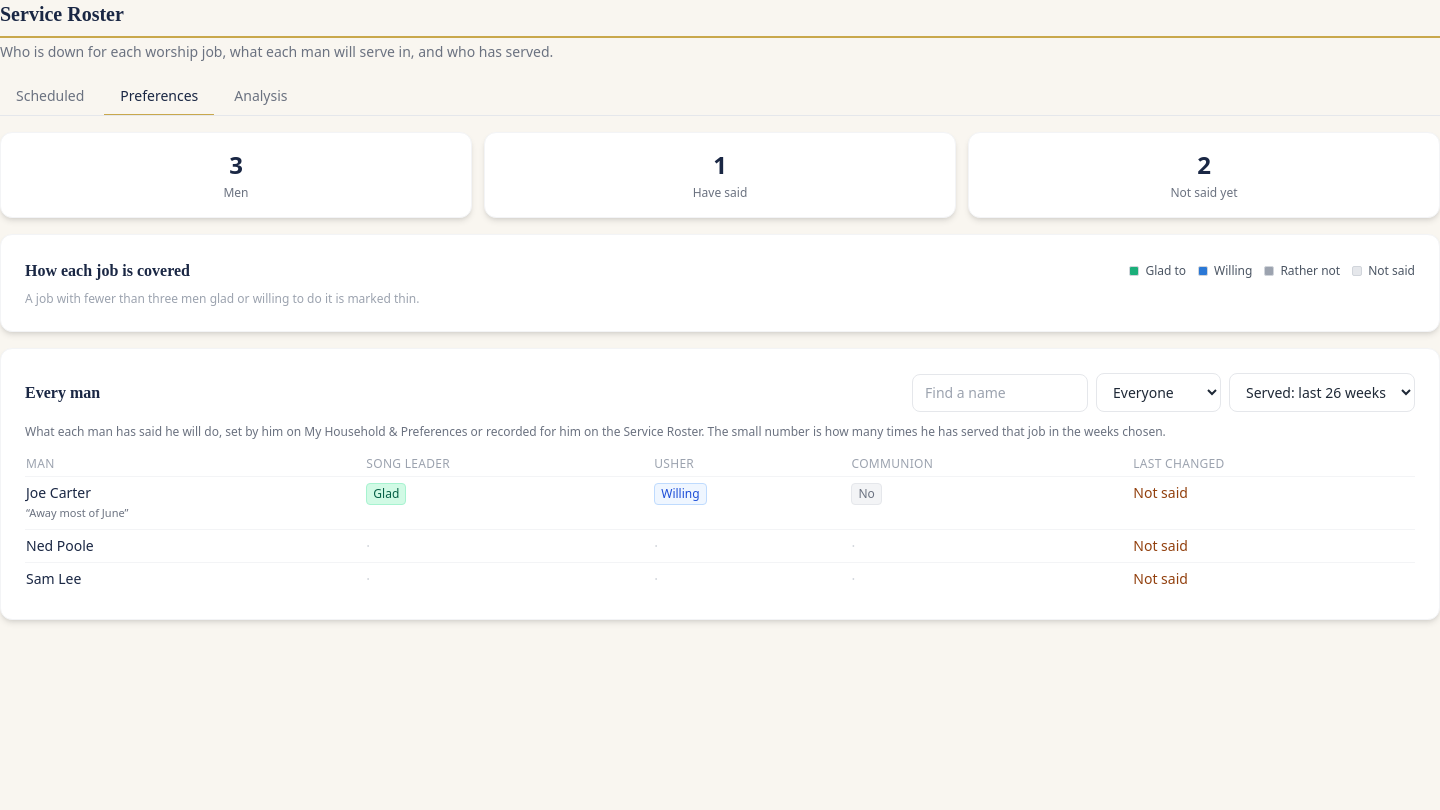
Test case: ServiceRosterView — opening a man from Preferences › warns when his directory entry does not say he is a man
Click the button "Sam Lee": (54, 579) [26,569,81,589]
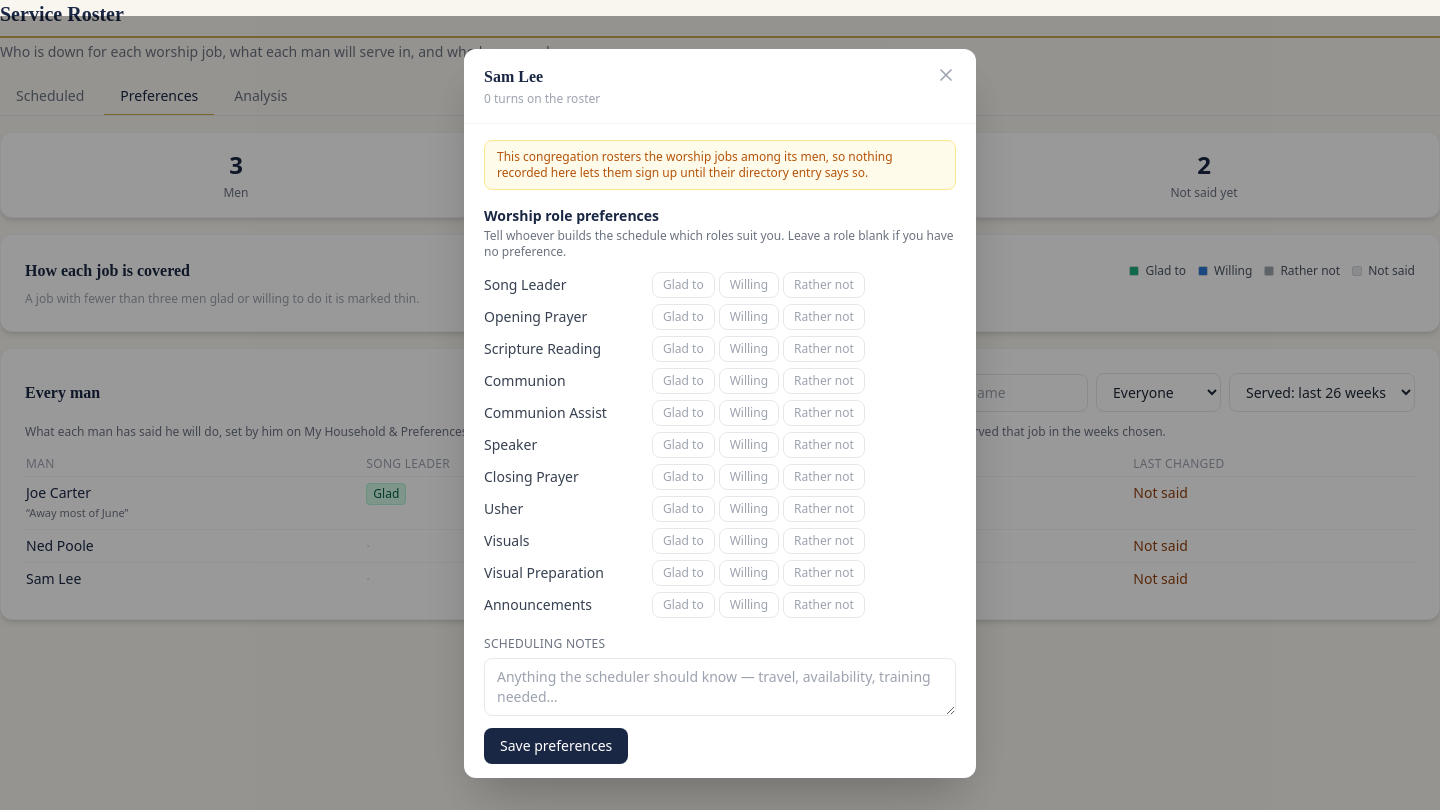
Now the text "rosters the worship jobs among its men" is shown, box [497,148,893,180]
